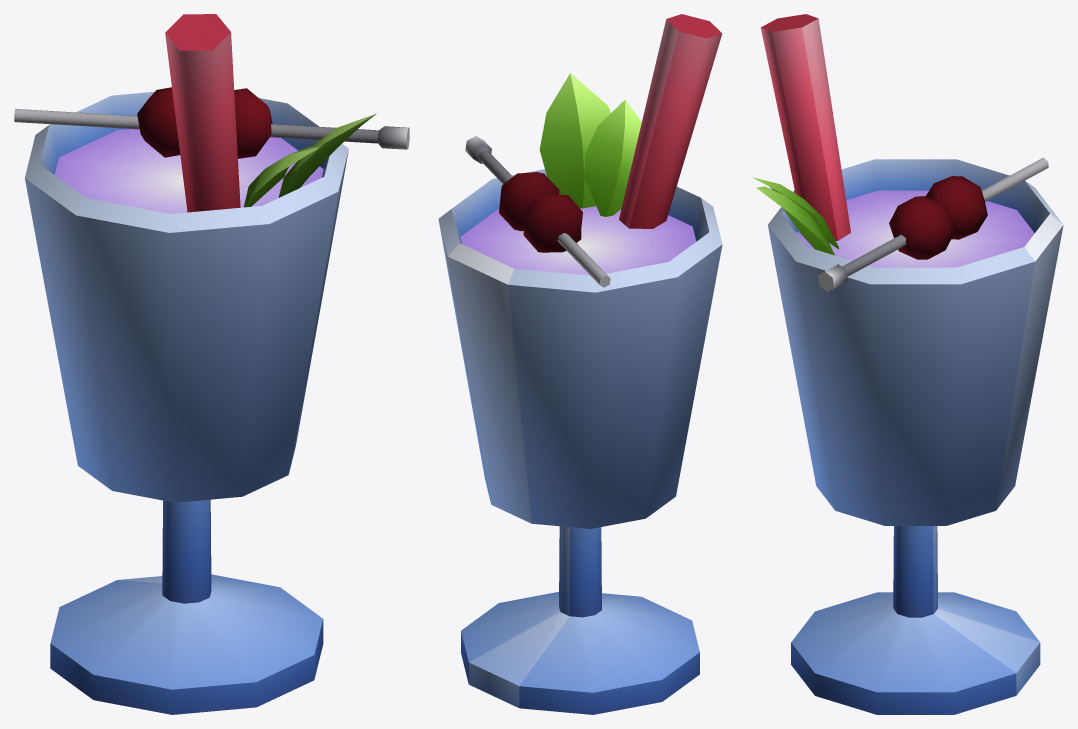
File: m_Cocktail09.fbx
The picture shows the model from 3 angles, left to right: view 1: azimuth 30°, elevation 25°; view 2: azimuth 150°, elevation 25°; view 3: azimuth 270°, elevation 25°; orthographic projection. The views are drawn at different scales.
Parts seen in each view (by area): view 1: m_Cocktail09; view 2: m_Cocktail09; view 3: m_Cocktail09.
Boxes of the visible parts, x1,y1,x2,y2 form: m_Cocktail09: (14, 14, 409, 714); m_Cocktail09: (438, 14, 722, 714); m_Cocktail09: (752, 14, 1063, 714).
Size of the model in its own units: 12.99 by 27.58 by 12.54.
